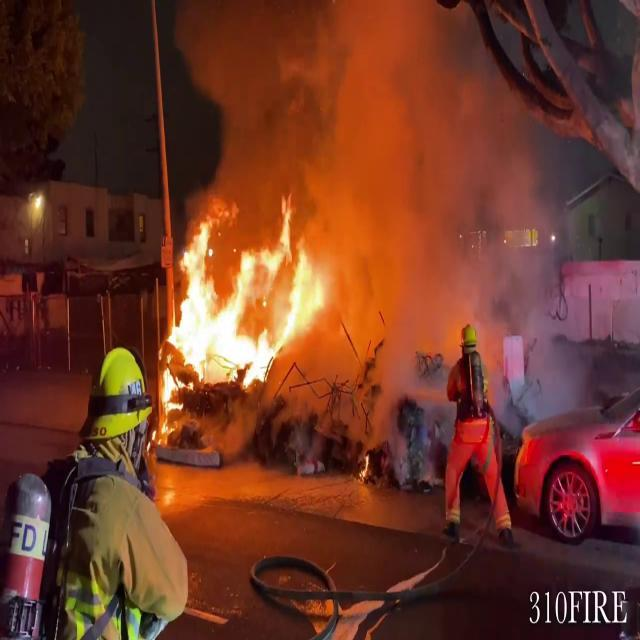Fire: (158, 196, 326, 426)
Smoke: (332, 0, 578, 423), (167, 0, 560, 245)
